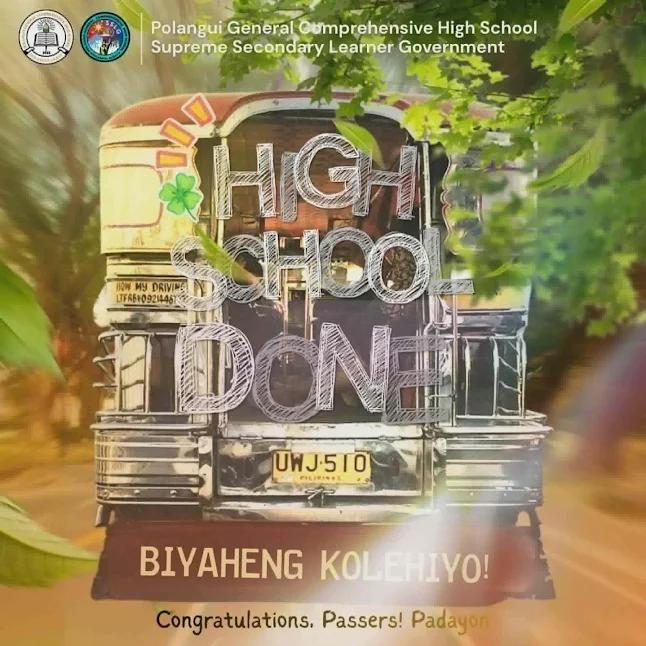logo: (15, 6, 78, 68), (79, 5, 135, 66)
text: (161, 127, 481, 434), (135, 537, 507, 594), (146, 15, 553, 59), (149, 604, 506, 635)
